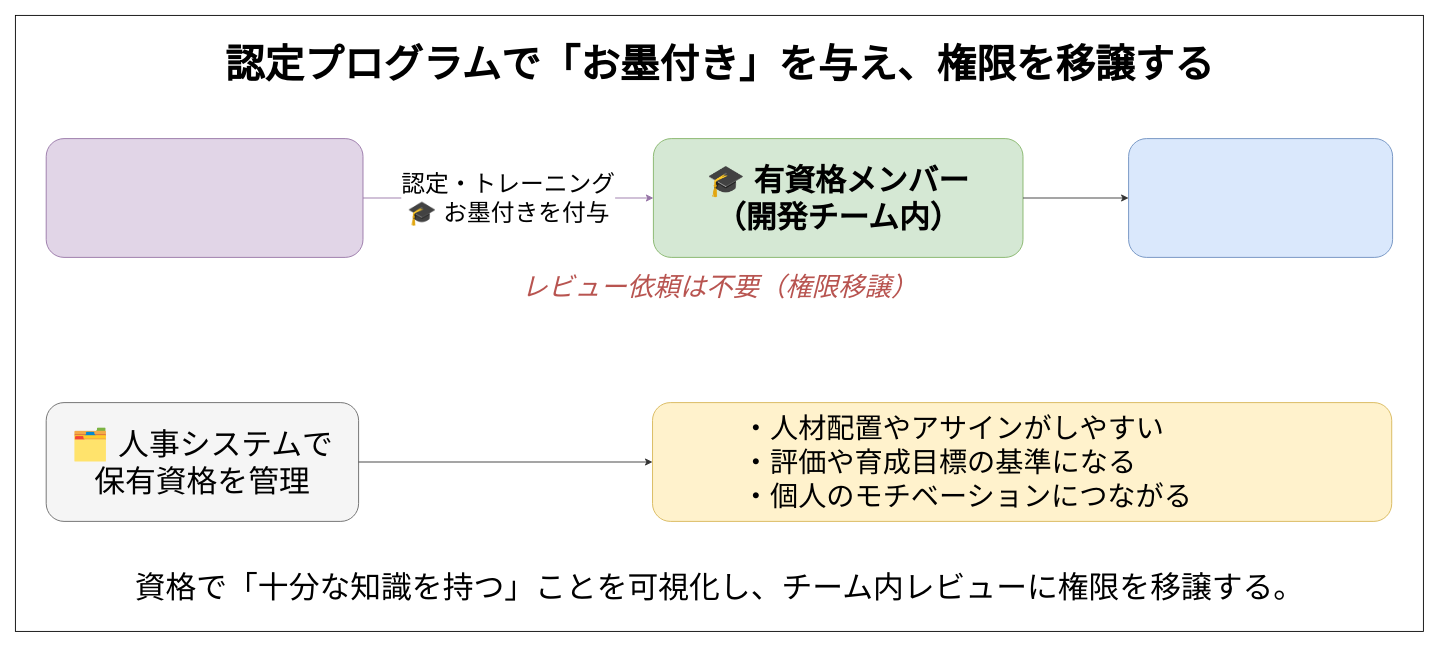
Some shapes in this 1439 by 647 pixel diagram are drawn without their labels. The box of each missing label's shape, as (x1, y1, x2, y2) in pixels:
✅ チーム内で レビュー完結: (1128, 138, 1393, 257)
🏛️ セキュリティ部門: (45, 138, 363, 257)
